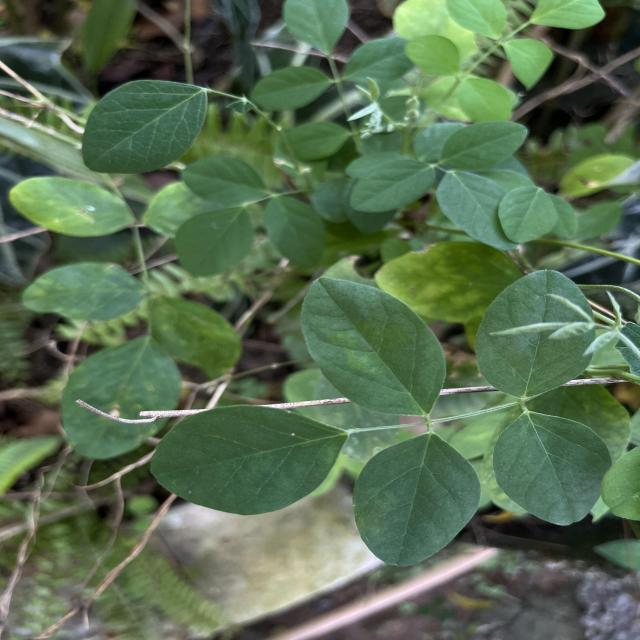Clitoria ternatea: (148, 403, 348, 516), (299, 276, 448, 417), (351, 432, 482, 566), (492, 411, 612, 526), (81, 80, 209, 174)
